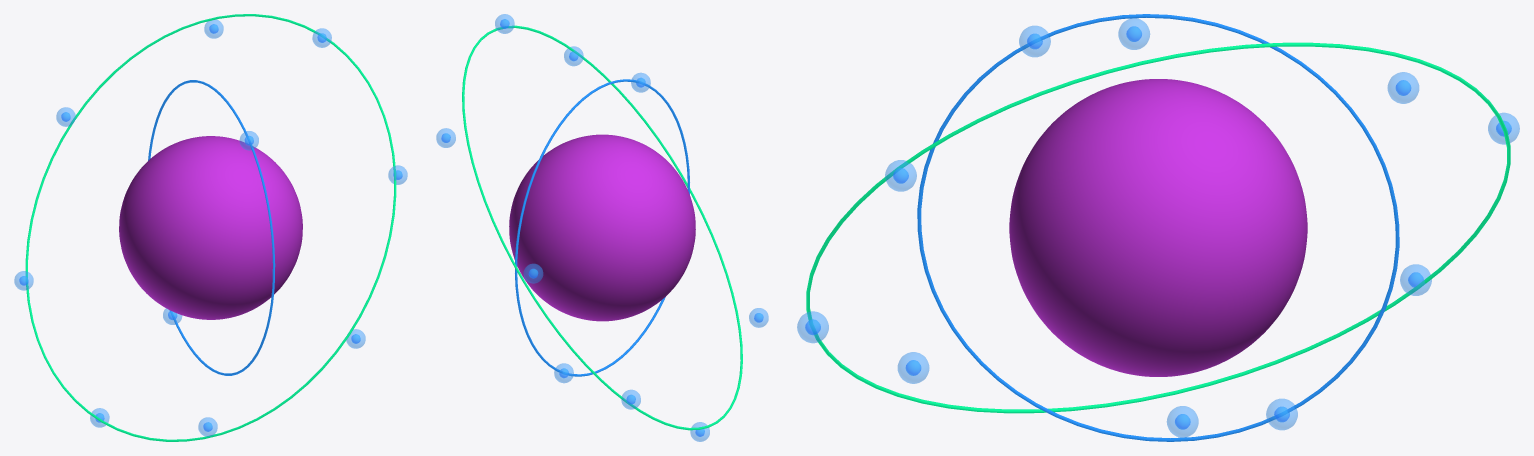
3 renders of one model, left to right at view 1: azimuth 30°, elevation 25°; view 2: azimuth 150°, elevation 25°; view 3: azimuth 270°, elevation 25°, orthographic. The views are drawn at different scales.
Parts seen in each view (by area): view 1: Ne, object 7, object 2; view 2: Ne, object 7, object 2; view 3: Ne, object 7, object 2, object 14, object 22, object 20, object 3, object 8, object 16, object 5, object 18, object 10 (+1 smaller).
Boxes of the visible parts, x1,y1,x2,y2 form: Ne: (119,136,302,319); object 7: (25,14,396,441); object 2: (148,80,275,375); Ne: (509,134,695,321); object 7: (462,25,742,430); object 2: (515,79,689,376); Ne: (1009,79,1307,376); object 7: (806,42,1510,413); object 2: (917,14,1399,441); object 14: (1387,72,1419,103); object 22: (897,352,929,383); object 20: (797,311,828,343); object 3: (1019,25,1050,57); object 8: (1166,406,1198,437); object 16: (1118,18,1150,49); object 5: (1266,398,1297,430); object 18: (885,160,916,191); object 10: (1400,264,1431,295).
Size of the model in its own units: 2.29 by 3.2 by 3.61.
